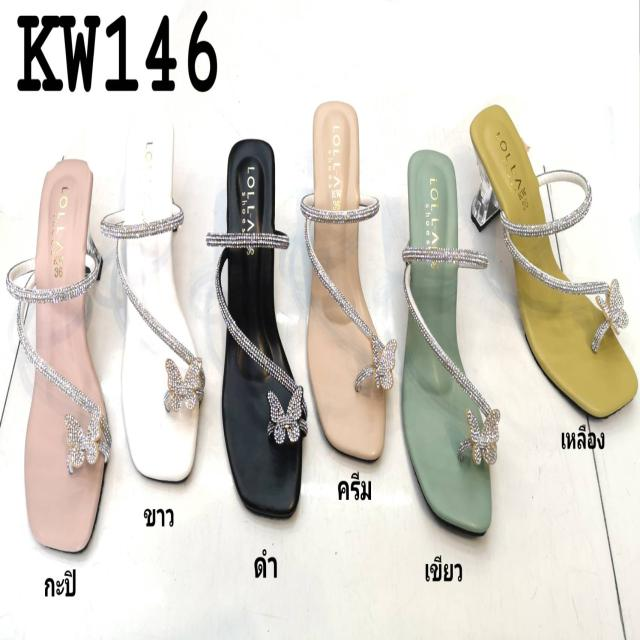black: (224, 136, 304, 518)
cream: (308, 103, 387, 466)
green: (403, 151, 496, 535)
kapi: (31, 151, 101, 551)
white: (120, 119, 203, 496)
yellow: (468, 103, 638, 415)
